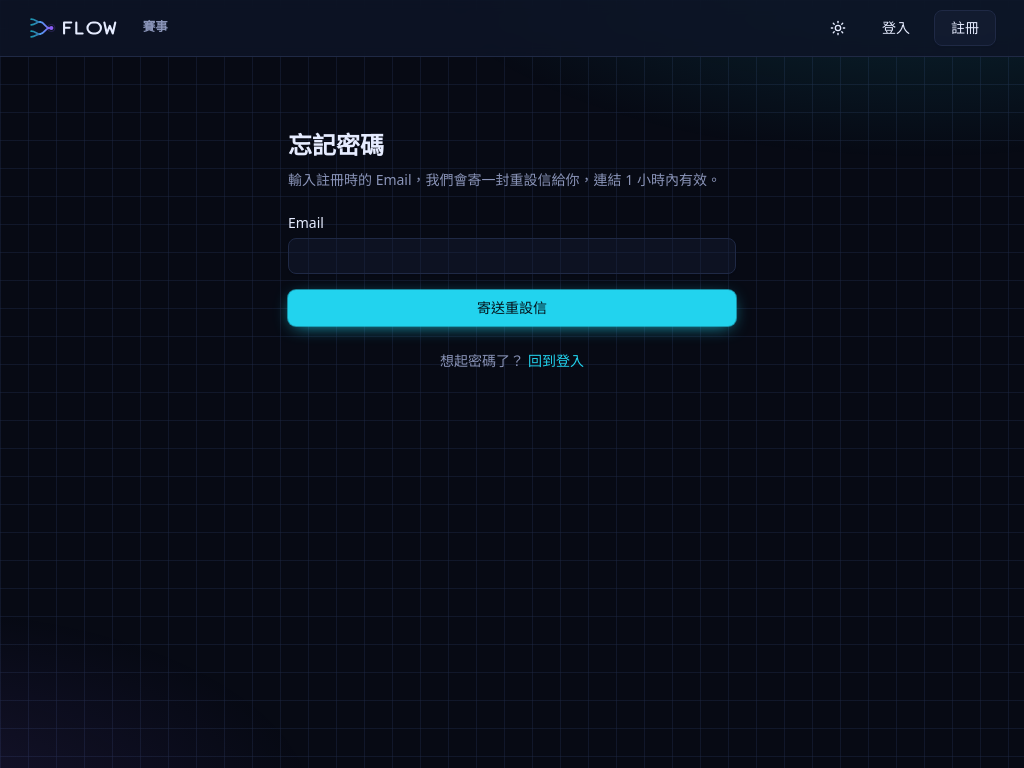
Scenario: S8 忘記密碼 › Email 格式不符：在欄位下方提示，不呼叫 API
This screenshot has width=1024, height=768.
Type "not-an-email" into the field labelled "Email".
click(512, 256); type("not-an-email")  # box [288,238,736,274]
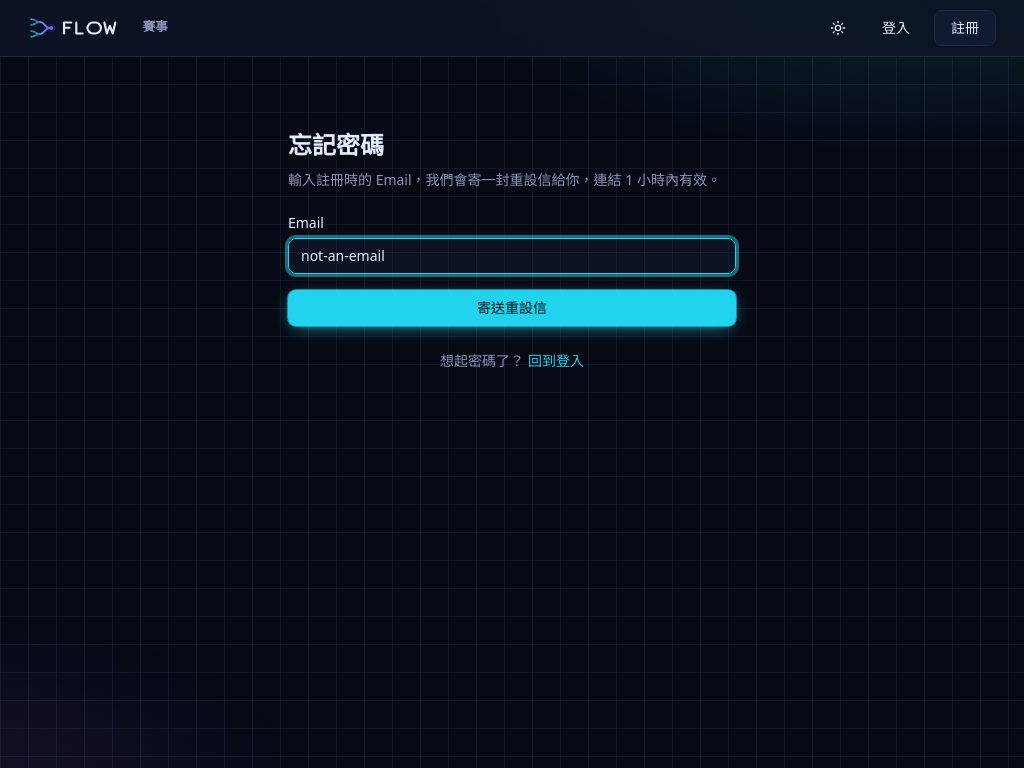
Click the button "寄送重設信".
click(512, 308)  # box [288,290,736,326]
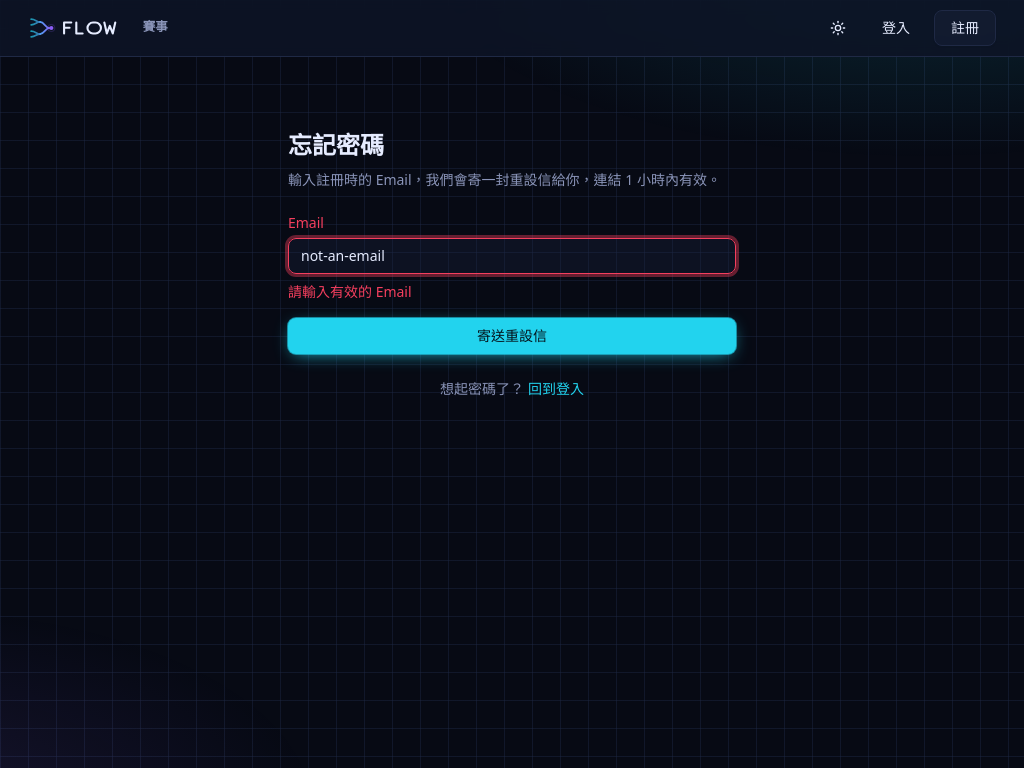
Now the text "請輸入有效的 Email" is shown, box [288,282,412,301]
